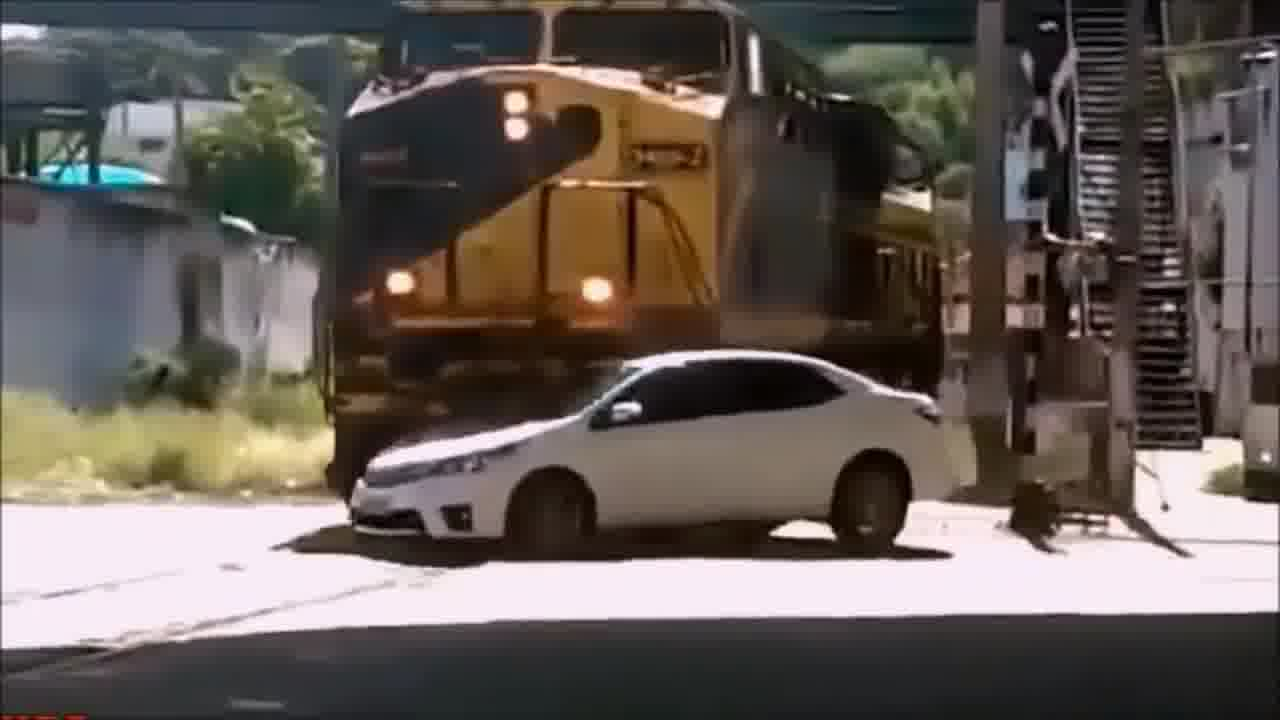crossing railway track: (316, 349, 980, 581)
